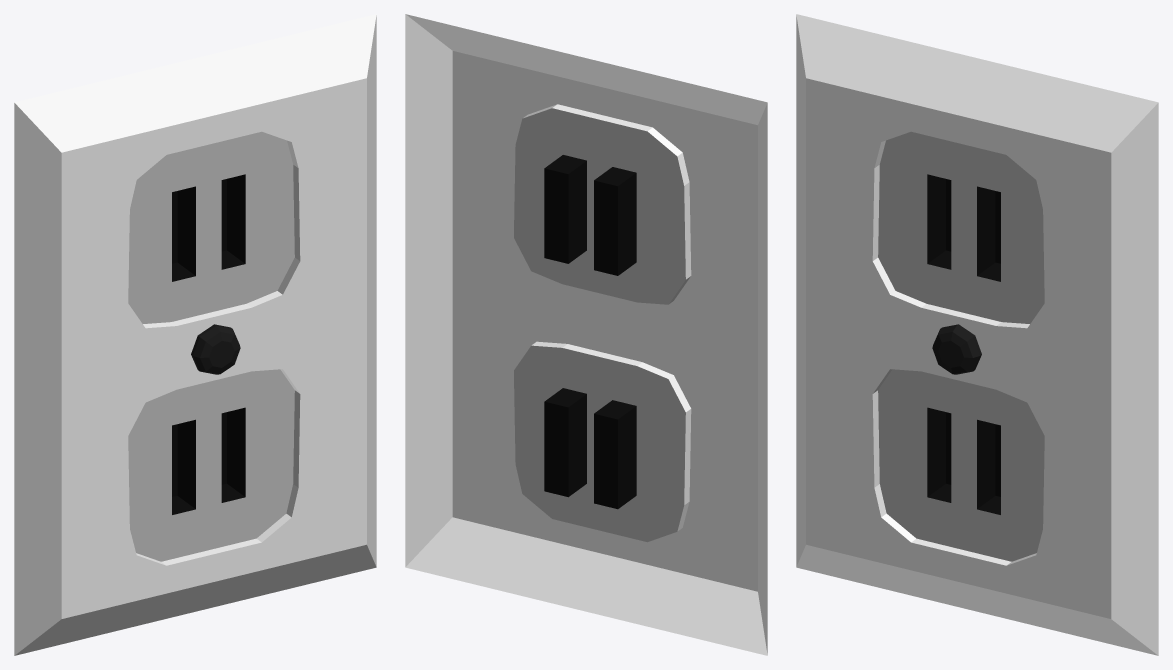
File: Prop_WallPlugin.fbx
3 renders of one model, left to right at view 1: azimuth 30°, elevation 25°; view 2: azimuth 150°, elevation 25°; view 3: azimuth 330°, elevation 25°, orthographic.
Parts seen in each view (by area): view 1: Prop_WallPlugin; view 2: Prop_WallPlugin; view 3: Prop_WallPlugin.
Part boxes in pixels (<box>): Prop_WallPlugin: <box>14,14,376,655</box>; Prop_WallPlugin: <box>405,14,767,655</box>; Prop_WallPlugin: <box>796,14,1158,655</box>.
Bounding box in the file's own units: 9.61 × 14.03 × 1.46.
